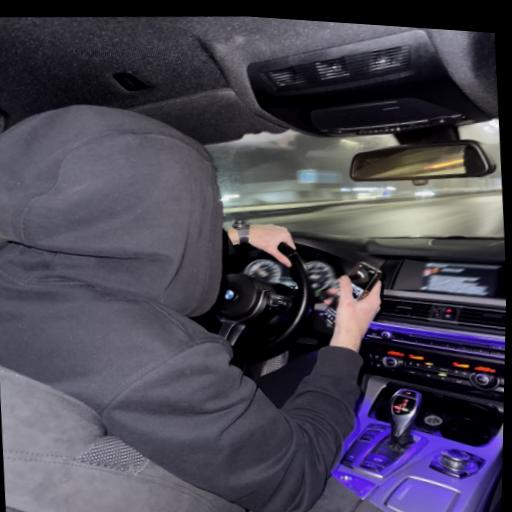Hands-on-the-Wheel: (217, 199, 317, 281)
